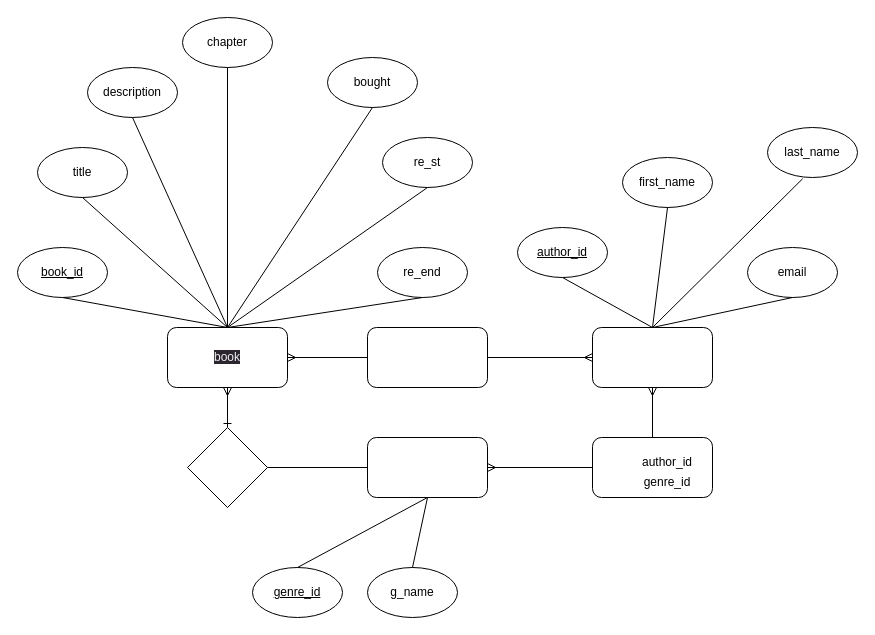
The diagram is 875 pixels wide and 635 high, and some of its shapes have lost their labels. Each missing label, with the centre of its shape:
author: [652,357]
author_id book_id: [427,357]
genre: [427,467]
has: [227,467]
